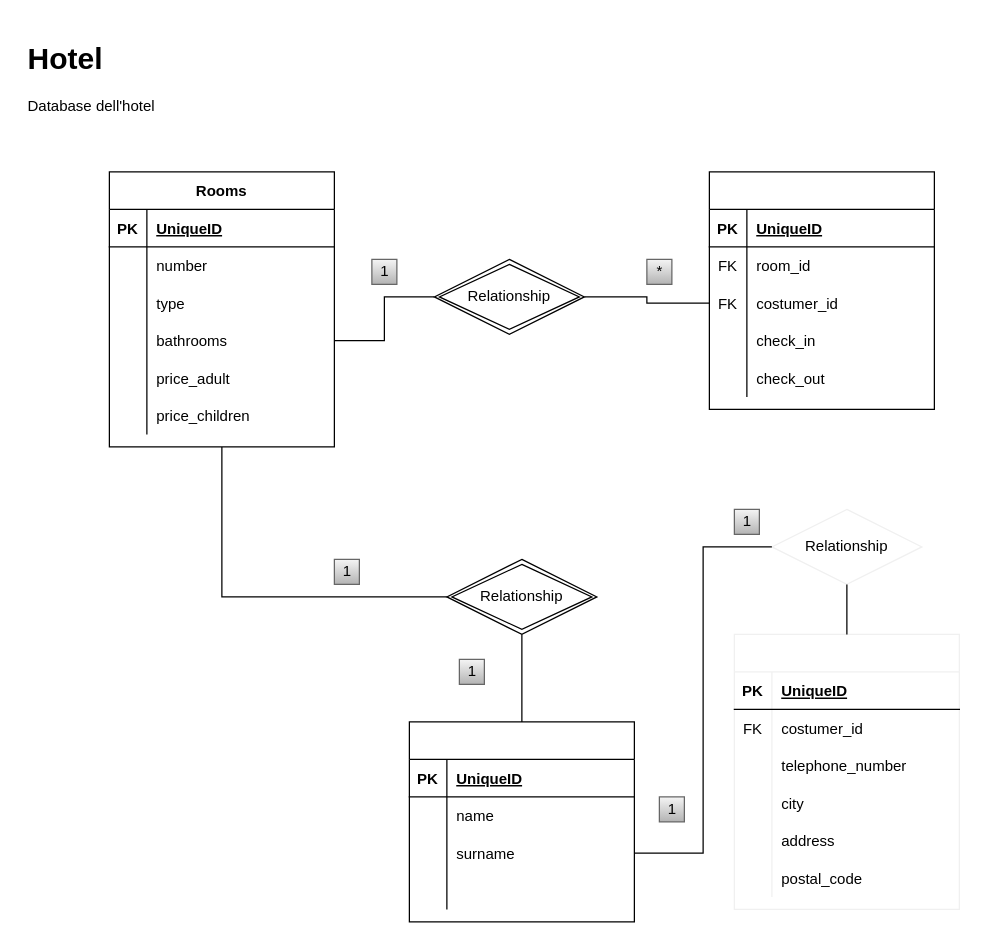
Image size: 981x944. Some labels were removed from this diagram. The box of each missing label's shape, as (x1, y1, x2, y2) in pixels:
Costumers: (408, 721, 634, 922)
Costumers_info: (733, 633, 959, 909)
Reservations: (708, 171, 934, 409)
